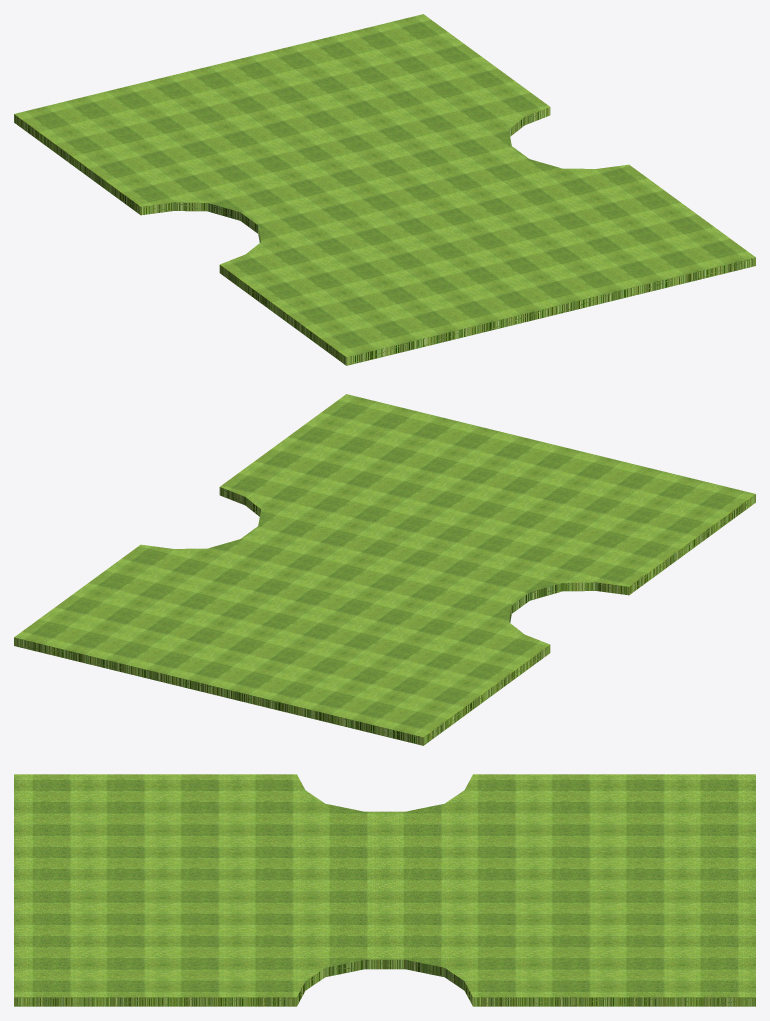
The model's file is level_0_floor_mesh.fbx.
3 views of the same model, one above another, from view 1: azimuth 30°, elevation 25°; view 2: azimuth 150°, elevation 25°; view 3: azimuth 270°, elevation 25° (orthographic). The views are drawn at different scales.
Parts seen in each view (by area): view 1: Cube; view 2: Cube; view 3: Cube.
Part boxes in pixels (<box>): Cube: <box>14,14,755,365</box>; Cube: <box>14,394,755,745</box>; Cube: <box>14,774,755,1006</box>.
Size of the model in its own units: 319 by 6.39 by 448.
1 material, 1 textured.
